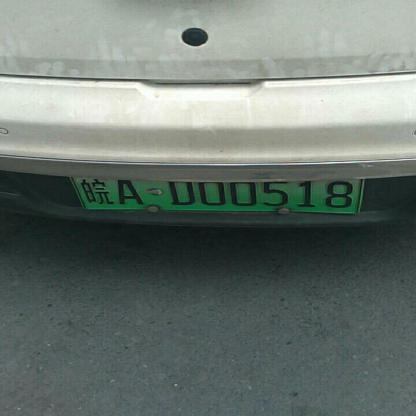lp: (73, 177, 360, 214)
